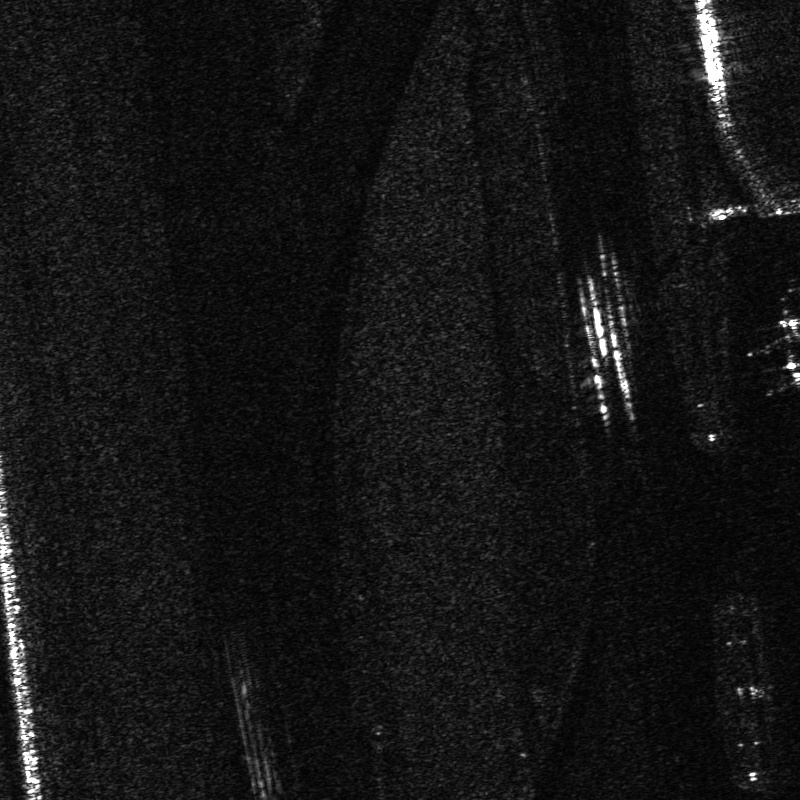A220: (745, 311, 799, 390)
